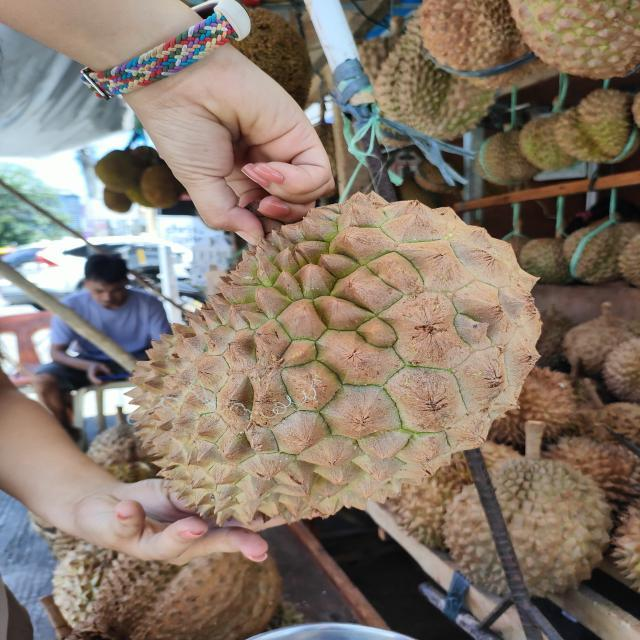mature: (120, 192, 544, 536)
